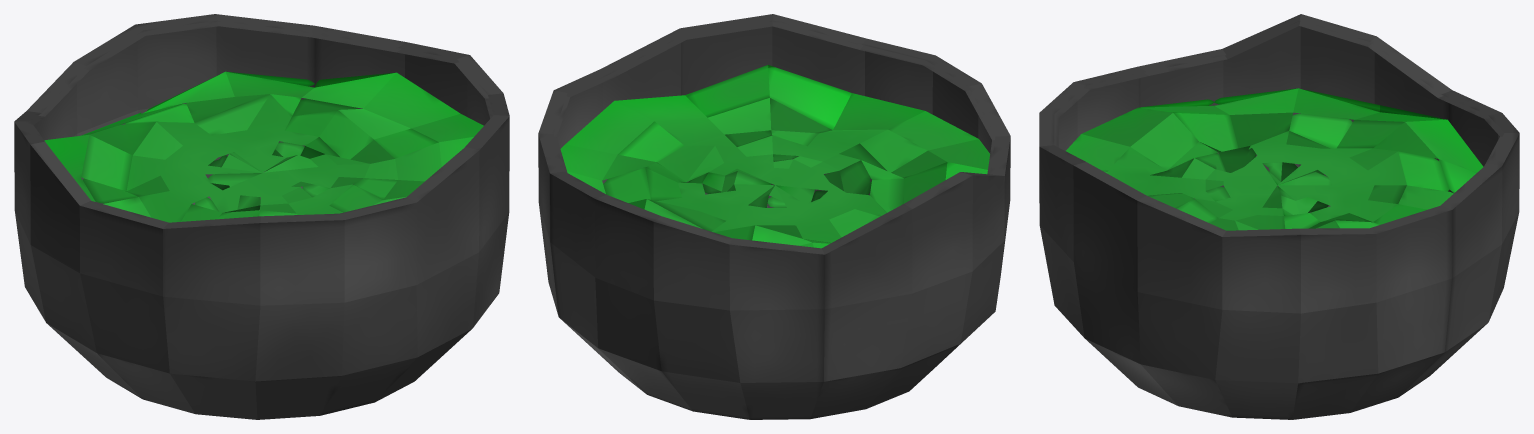
File: cauldron.fbx
The picture shows the model from 3 angles, left to right: view 1: azimuth 30°, elevation 25°; view 2: azimuth 150°, elevation 25°; view 3: azimuth 270°, elevation 25°; orthographic projection. The views are drawn at different scales.
Visible parts, largest first — view 1: sphere, cylinder, sphere_1; view 2: sphere, cylinder, sphere_1; view 3: sphere, cylinder, sphere_1.
Part boxes in pixels (bbox=[...]): sphere: bbox=[14, 14, 509, 419]; cylinder: bbox=[44, 71, 483, 222]; sphere_1: bbox=[30, 20, 493, 210]; sphere: bbox=[538, 14, 1010, 419]; cylinder: bbox=[560, 65, 989, 248]; sphere_1: bbox=[553, 20, 995, 207]; sphere: bbox=[1039, 14, 1519, 419]; cylinder: bbox=[1066, 88, 1483, 230]; sphere_1: bbox=[1054, 20, 1504, 384].
Bounding box in the file's own units: 193 × 104 × 192.
Materials: 1 (1 with a texture image).
